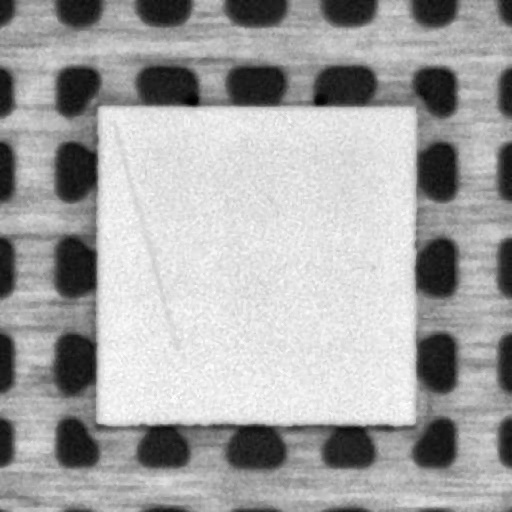DIE_CRACK: (112, 122, 176, 347)
